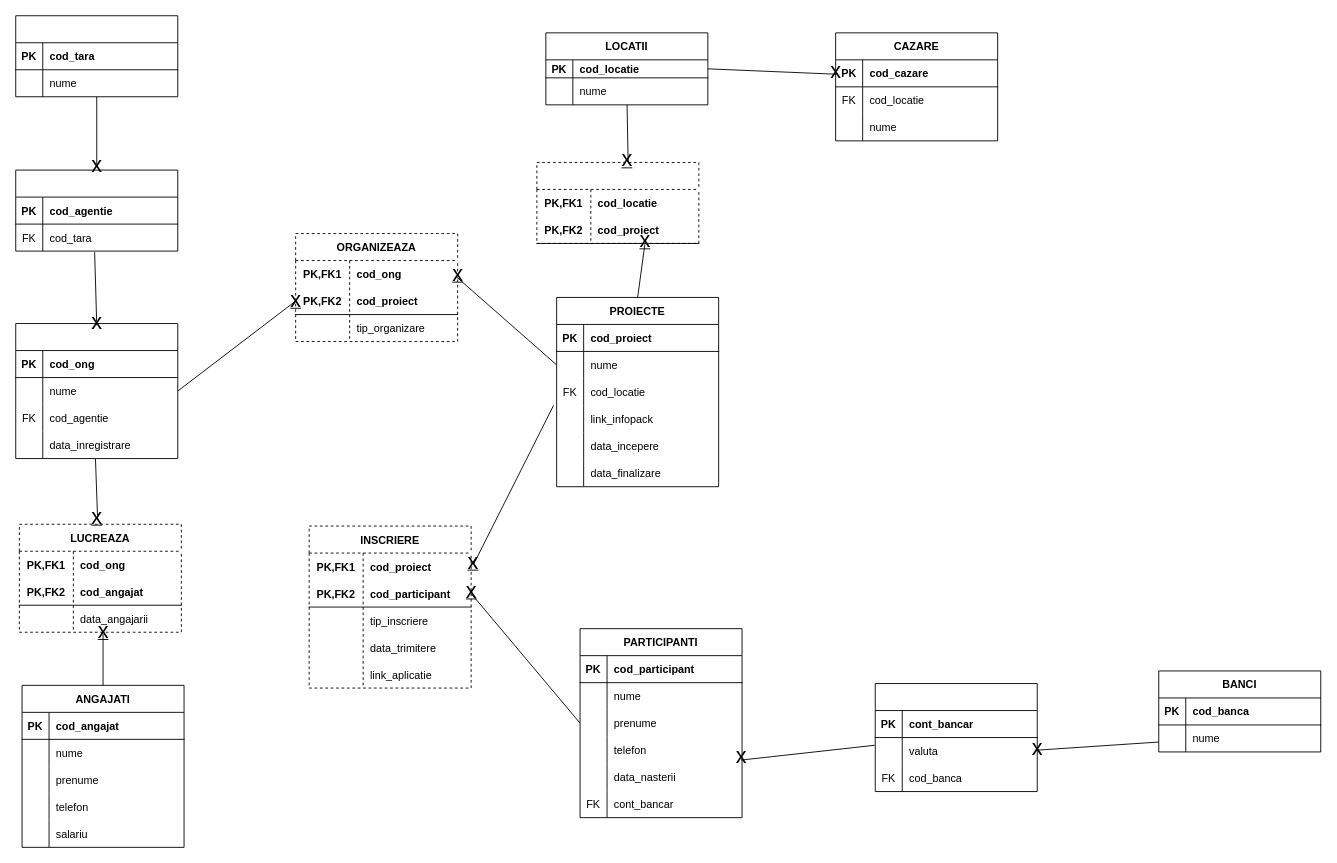
Some shapes in this 1337 by 863 pixel diagram are drawn without their labels. Each missing label, with the box of its shape:
AGENTII: (15, 169, 178, 251)
CONTURI_BANCARE: (874, 683, 1037, 792)
ORGANIZATII: (15, 323, 178, 459)
SE_AFLA: (536, 162, 699, 243)
TARI: (15, 15, 178, 97)
